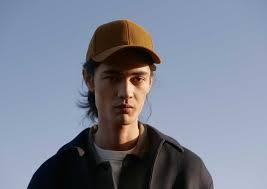cap: (80, 14, 165, 71)
